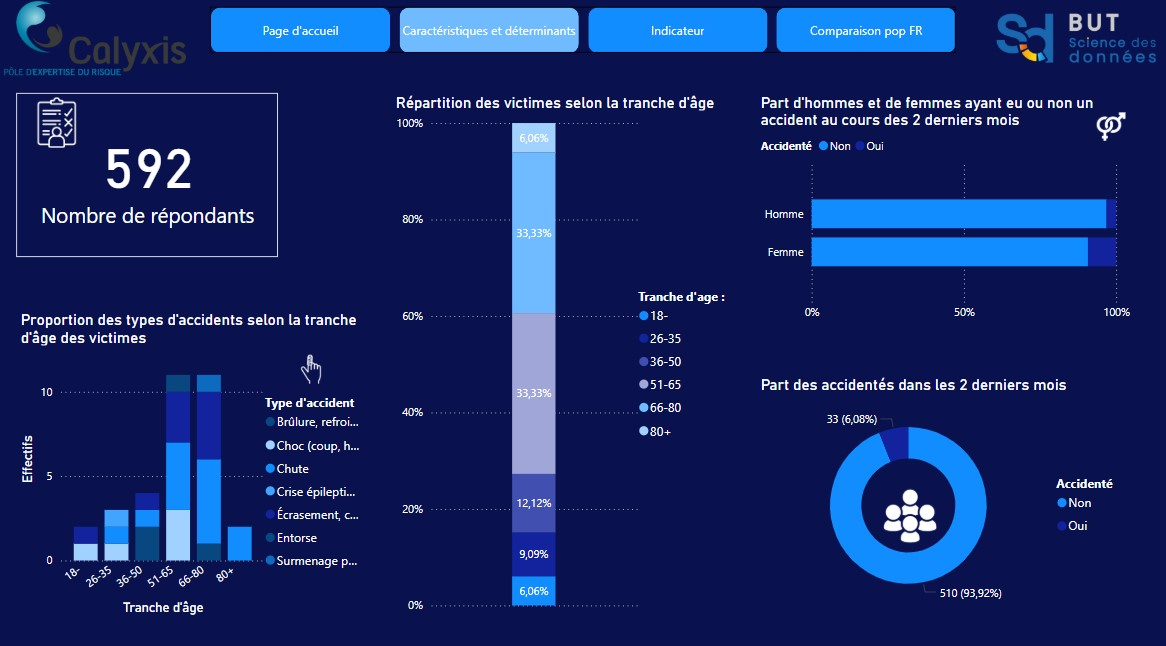

The dashboard page shown, as its layout file describes it:
{"tool":"powerbi","page":{"name":"Caractéristiques et déterminants","canvas":[1280,720],"ordinal":1},"visuals":[{"type":"image","box":[0,0,210.1,99.3],"z":0},{"type":"image","box":[1082.6,0,197.4,99.2],"z":1000},{"type":"donutChart","title":"Part des accidentés dans les 2 derniers mois","fields":{"Category":["accident.Accident_2mois"],"Y":["CountNonNull(accident.Id_volontaire)"]},"box":[830.6,420.2,415.3,266.5],"z":2000},{"type":"hundredPercentStackedBarChart","title":"Part d''hommes et de femmes ayant eu ou non un accident au cours des 2 derniers mois","fields":{"Series":["accident.Accident_2mois"],"Y":["CountNonNull(accident.Genre)"],"Category":["bd_quest.Genre"]},"box":[830.6,109.9,415.3,258.7],"z":3000},{"type":"columnChart","title":"Proportion des types  d''accidents selon la tranche d''âge des victimes","fields":{"Category":["accident.TrancheÂge"],"Series":["accident.type_accident_derive"],"Y":["CountNonNull(accident.Accident_2mois)"]},"box":[17.5,348.2,392.9,339.5],"z":4000},{"type":"card","fields":{"Values":["CountNonNull(bd_quest.Id_volontaire)"]},"box":[17.5,109.9,286.9,179.9],"z":5000},{"type":"hundredPercentStackedColumnChart","title":"Répartition des victimes selon la tranche d''âge","fields":{"Category":["accident.Accident_2mois"],"Series":["accident.TrancheÂge"],"Y":["CountNonNull(accident.Accident_2mois)"]},"box":[429.9,109.9,390,576.8],"z":6000},{"type":"image","box":[298,387,87,52],"z":7000},{"type":"image","box":[1192,126,54,41],"z":8000},{"type":"image","box":[18,110,88,65],"z":9000},{"type":"image","box":[950,536,99,75],"z":10000},{"type":"pageNavigator","box":[231,15,818,50],"z":11000}]}

Visuals, with their boxes in screenshot pixels (x1, y1, x2, y2), scaled from the page's 1280x720 canvas onto the 1166x646 screenshot:
image: (0, 0, 191, 89)
image: (986, 0, 1165, 89)
"Part des accidentés dans les 2 derniers mois" donutChart: (757, 377, 1135, 616)
"Part d''hommes et de femmes ayant eu ou non un accident au cours des 2 derniers mois" hundredPercentStackedBarChart: (757, 99, 1135, 331)
"Proportion des types  d''accidents selon la tranche d''âge des victimes" columnChart: (16, 312, 374, 617)
card - CountNonNull(bd_quest.Id_volontaire): (16, 99, 277, 260)
"Répartition des victimes selon la tranche d''âge" hundredPercentStackedColumnChart: (392, 99, 747, 616)
image: (271, 347, 351, 394)
image: (1086, 113, 1135, 150)
image: (16, 99, 97, 157)
image: (865, 481, 956, 548)
pageNavigator: (210, 13, 956, 58)
